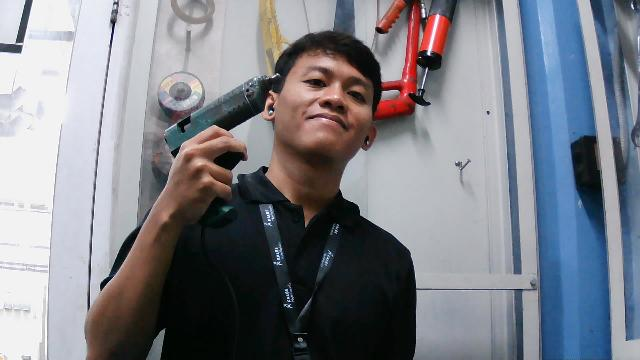gun_lem: (147, 70, 301, 231)
